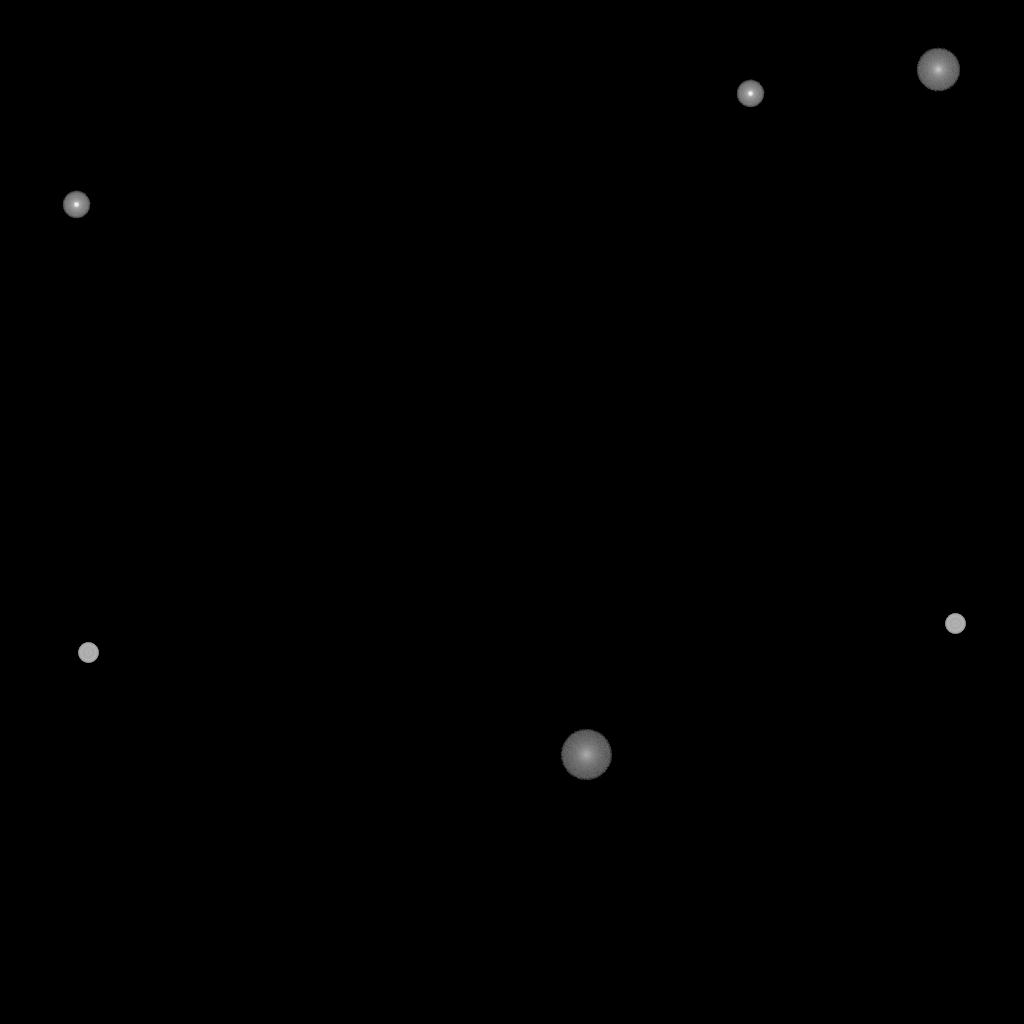depth:-10: (736, 80, 764, 108), (62, 191, 90, 219)
depth:-40: (78, 643, 98, 663), (945, 614, 965, 634)
depth:10: (916, 48, 960, 92)
depth:20: (560, 730, 612, 780)
